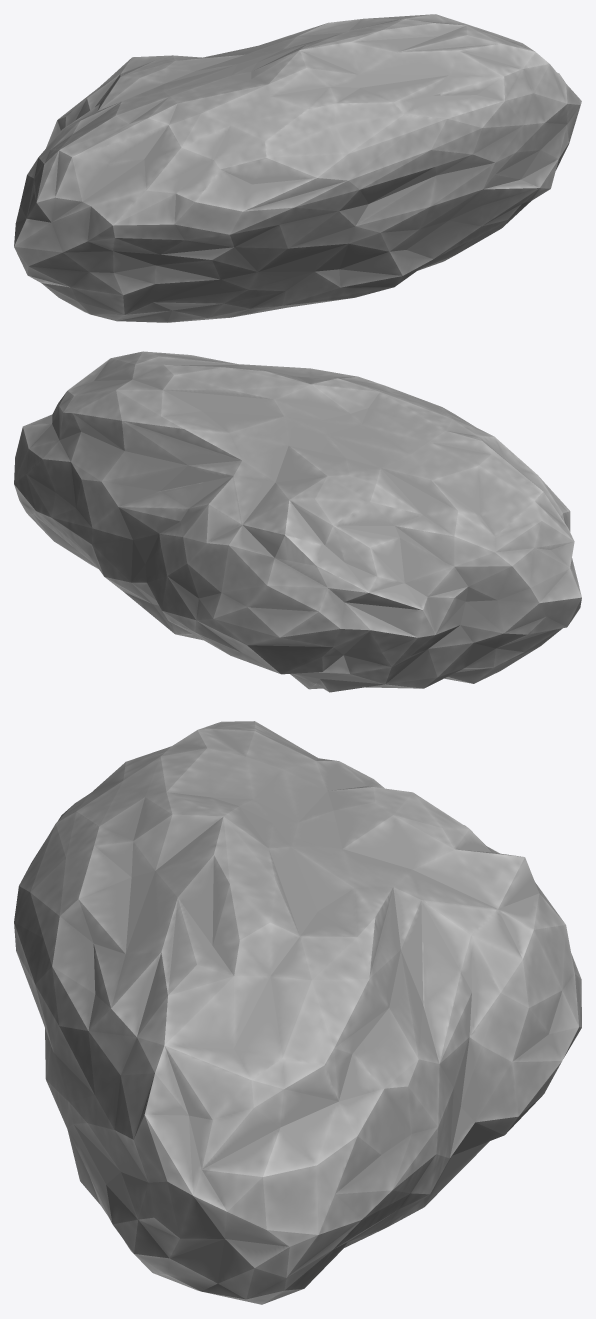
File: stone2.glb
3 renders of one model, top to bottom at view 1: azimuth 30°, elevation 25°; view 2: azimuth 150°, elevation 25°; view 3: azimuth 270°, elevation 25°, orthographic. The views are drawn at different scales.
Parts seen in each view (by area): view 1: R1; view 2: R1; view 3: R1.
Boxes of the visible parts, x1,y1,x2,y2 form: R1: (14, 14, 581, 322); R1: (14, 351, 581, 692); R1: (14, 721, 581, 1304).
Size of the model in its own units: 3 by 1.32 by 1.71.
Materials: 1 (1 with a texture image).
